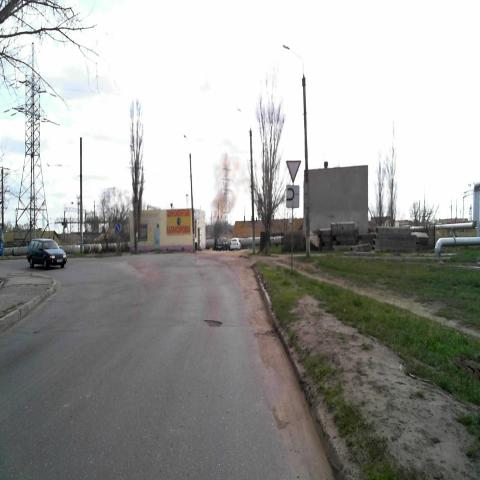2_4: (286, 160, 301, 183)
4_2_1: (115, 222, 120, 233)
8_13: (286, 185, 300, 208)
